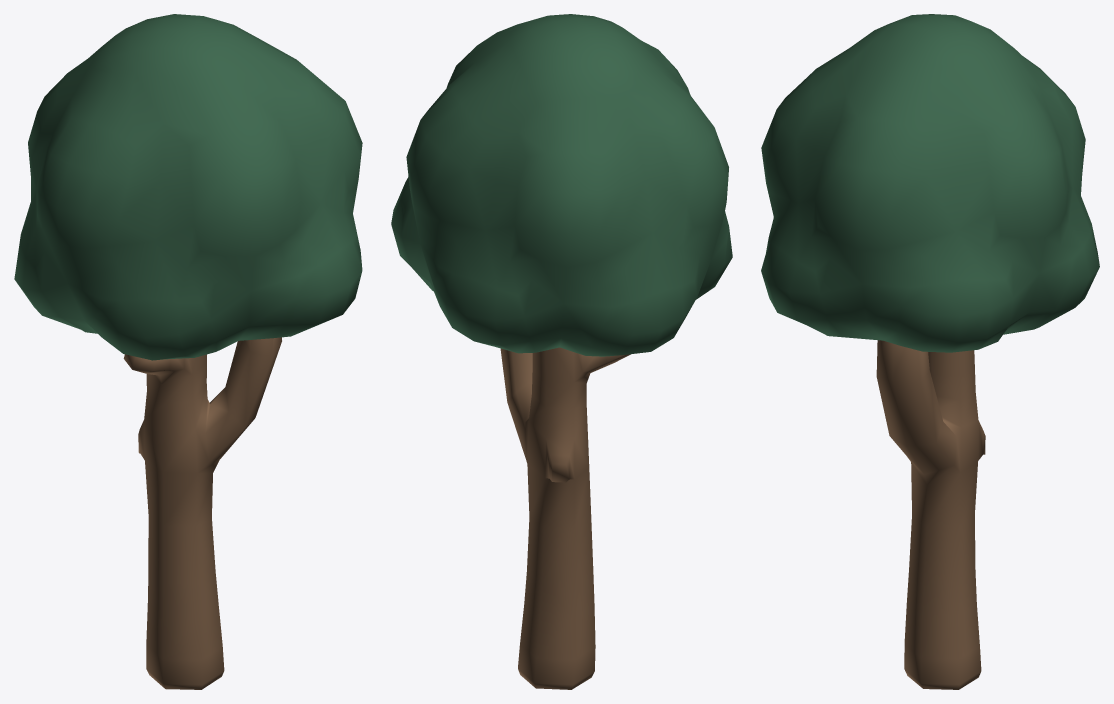
Rendered from tree01.fbx.
3 views of the same model, side by side, from view 1: azimuth 30°, elevation 25°; view 2: azimuth 150°, elevation 25°; view 3: azimuth 270°, elevation 25° (orthographic).
Parts seen in each view (by area): view 1: Tree_D_Top_03_LOD1_Mat_Nature_0.004, Tree_Btm_D_03_LOD1_Mat_Nature_0.004; view 2: Tree_D_Top_03_LOD1_Mat_Nature_0.004, Tree_Btm_D_03_LOD1_Mat_Nature_0.004; view 3: Tree_D_Top_03_LOD1_Mat_Nature_0.004, Tree_Btm_D_03_LOD1_Mat_Nature_0.004.
Boxes of the visible parts, x1,y1,x2,y2 form: Tree_D_Top_03_LOD1_Mat_Nature_0.004: (14, 14, 362, 360); Tree_Btm_D_03_LOD1_Mat_Nature_0.004: (123, 337, 281, 689); Tree_D_Top_03_LOD1_Mat_Nature_0.004: (391, 14, 732, 356); Tree_Btm_D_03_LOD1_Mat_Nature_0.004: (500, 347, 630, 689); Tree_D_Top_03_LOD1_Mat_Nature_0.004: (761, 14, 1099, 352); Tree_Btm_D_03_LOD1_Mat_Nature_0.004: (876, 340, 985, 689).
Bounding box in the file's own units: 1.57 × 3.22 × 1.52.
